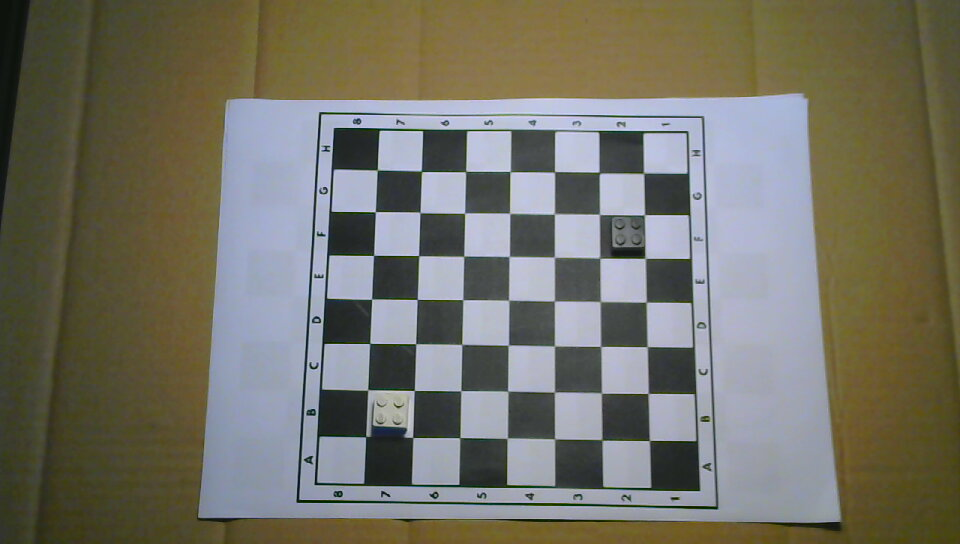bp: (609, 214, 646, 255)
wp: (370, 391, 411, 434)
